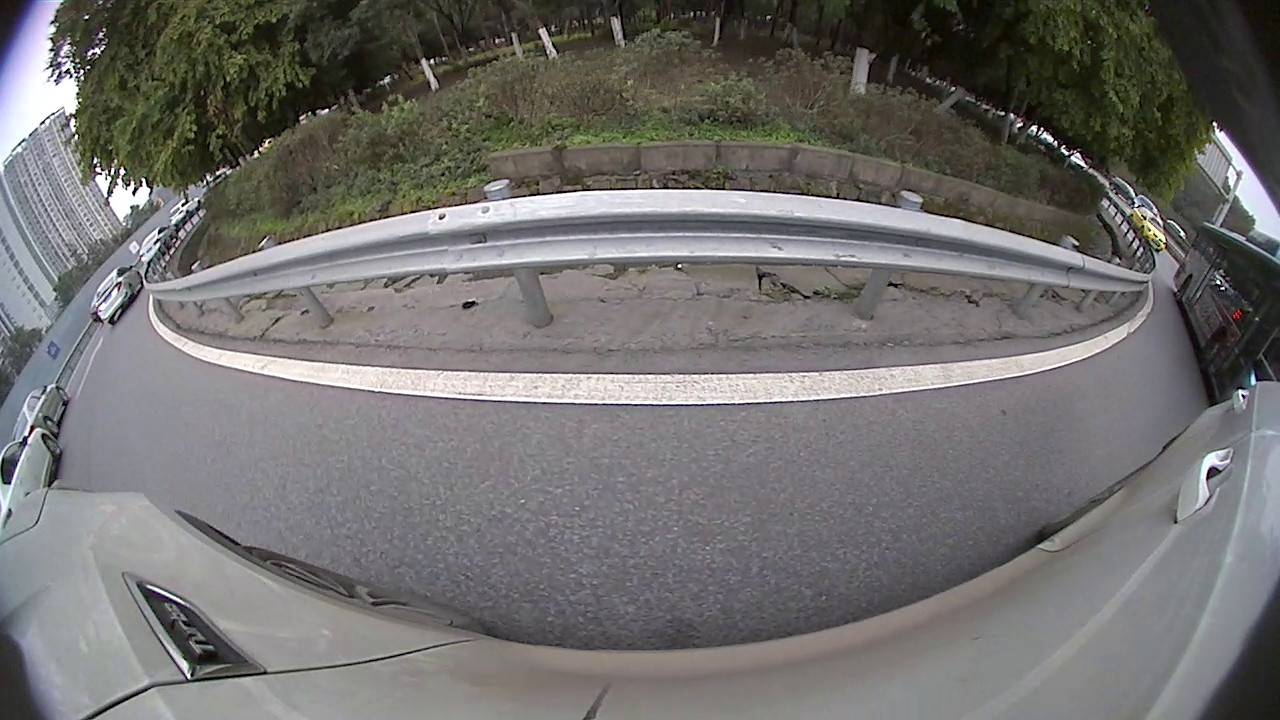car: (197, 113, 369, 211), (290, 77, 448, 134), (894, 125, 978, 188), (1176, 347, 1234, 433), (1018, 193, 1075, 244)
front: (293, 144, 324, 177), (392, 98, 425, 128), (1212, 423, 1229, 436), (966, 173, 979, 189)
rear: (209, 184, 232, 212), (1202, 407, 1221, 425), (935, 160, 948, 177)
